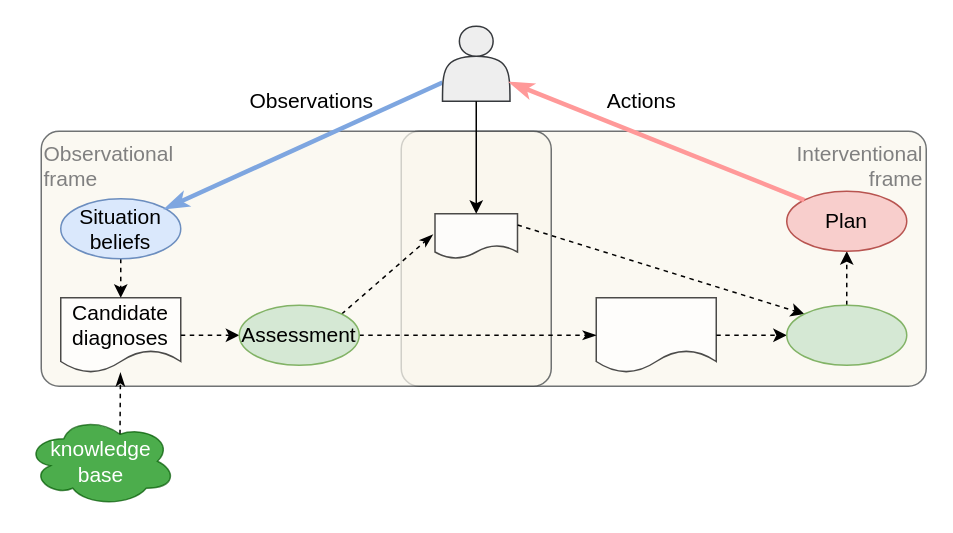
This 953x533 diagram has some shape labels left out. The shapes that lost their labels are listed below. From the top down, each one's centre as x and y in pixels, then its label:
At point (475, 63): "subject".
At point (476, 235): "Goals".
At point (655, 334): "Candidate interventions".
At point (846, 334): "Selection".
